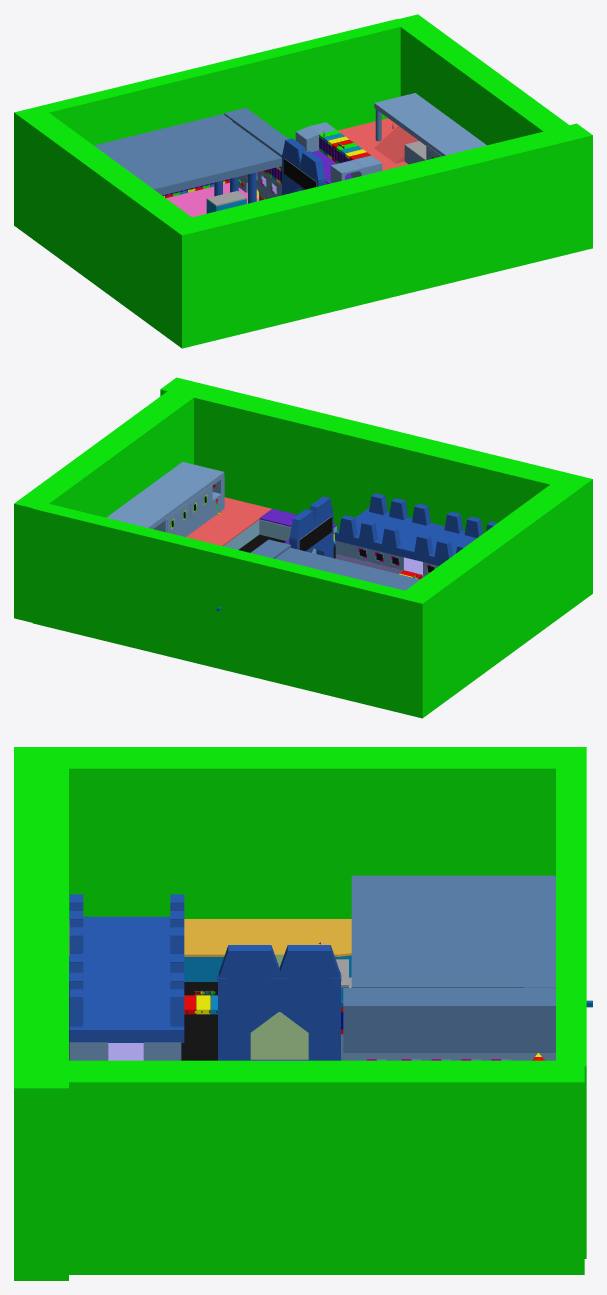
The model's file is mapfile.gltf.
3 views of the same model, one above another, from view 1: azimuth 30°, elevation 25°; view 2: azimuth 150°, elevation 25°; view 3: azimuth 270°, elevation 25° (orthographic). The views are drawn at different scales.
Visible parts, largest first — view 1: Part (×10), Union, Baseplate, Wedge; view 2: Part (×14), Union; view 3: Part (×14), Union, Baseplate.
Boxes of the visible parts, left/top/right/bottom form: Part (×10): left=14, top=14, right=592, bottom=348; Union: left=282, top=138, right=325, bottom=195; Baseplate: left=166, top=182, right=258, bottom=217; Wedge: left=374, top=126, right=418, bottom=163; Part (×14): left=14, top=377, right=592, bottom=718; Union: left=289, top=496, right=333, bottom=557; Part (×14): left=14, top=747, right=586, bottom=1280; Union: left=217, top=945, right=341, bottom=1060; Baseplate: left=69, top=982, right=217, bottom=1060.
Bounding box in the file's own units: 647 × 173 × 464.
